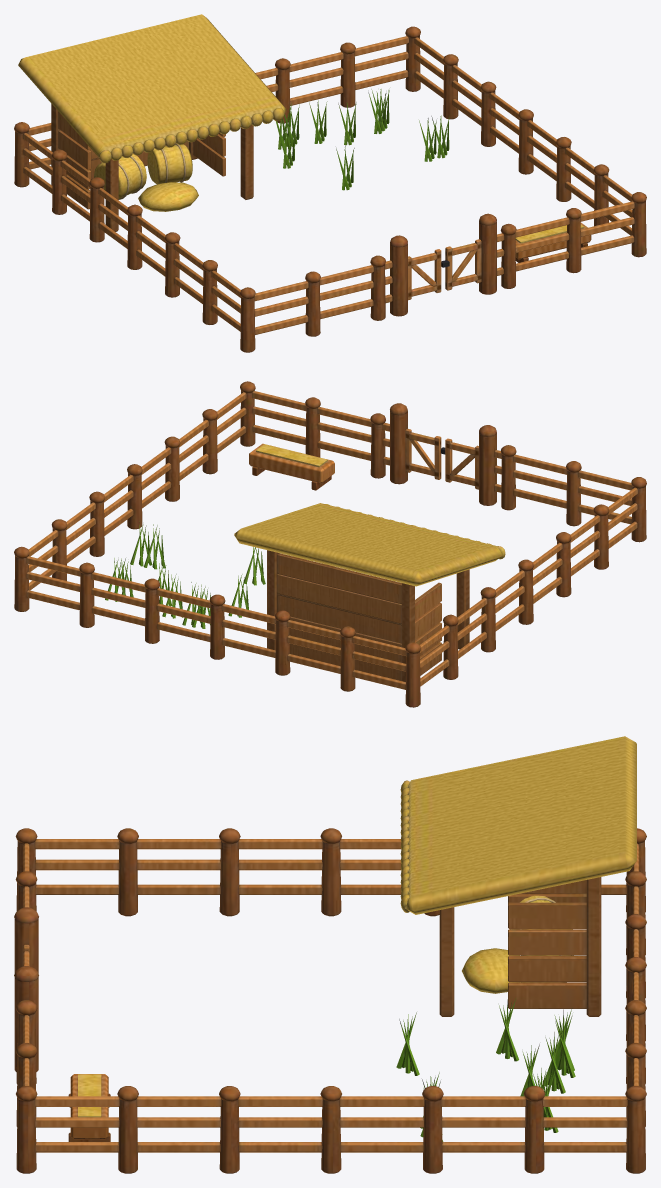
The model's file is cassowary_ranch.glb.
3 views of the same model, one above another, from view 1: azimuth 30°, elevation 25°; view 2: azimuth 150°, elevation 25°; view 3: azimuth 270°, elevation 25° (orthographic). The views are drawn at different scales.
Visible parts, largest first — view 1: cassowary_ranch; view 2: cassowary_ranch; view 3: cassowary_ranch.
Boxes of the visible parts, left/top/right/bottom form: cassowary_ranch: left=14, top=14, right=646, bottom=352; cassowary_ranch: left=14, top=381, right=646, bottom=707; cassowary_ranch: left=14, top=736, right=646, bottom=1173.
Bounding box in the file's own units: 3 × 0.9759 × 3.01.
1 material, 1 textured.
